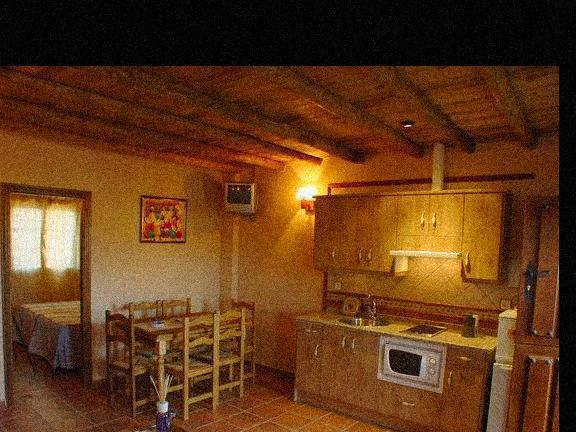Lavaplatos: (334, 286, 392, 338)
Puerta: (503, 195, 553, 432)
